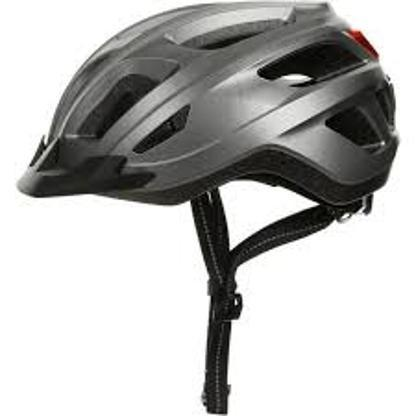not trash: (15, 4, 400, 416)
